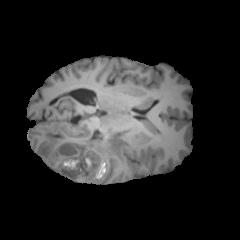glioma: (40, 128, 130, 182)
